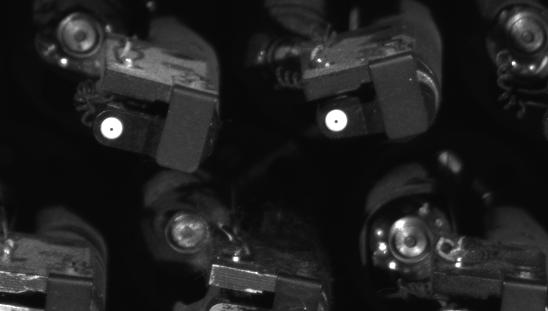fiber: (320, 103, 354, 139), (94, 113, 131, 144)
